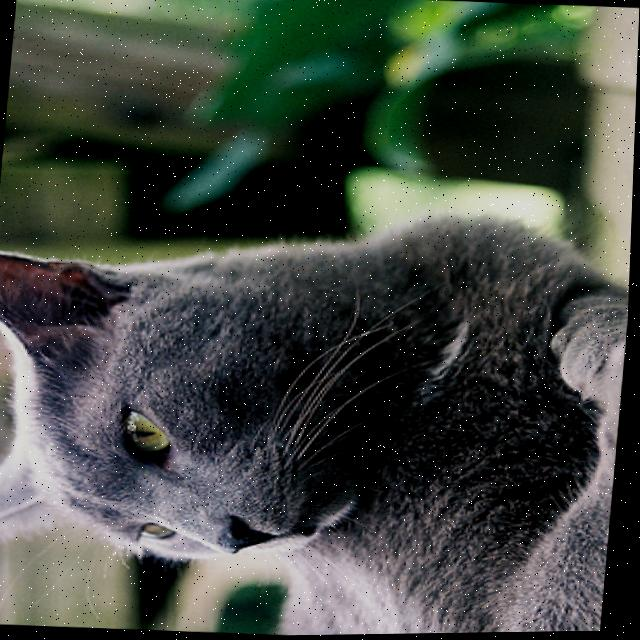Russian Blue: (0, 181, 635, 640)
